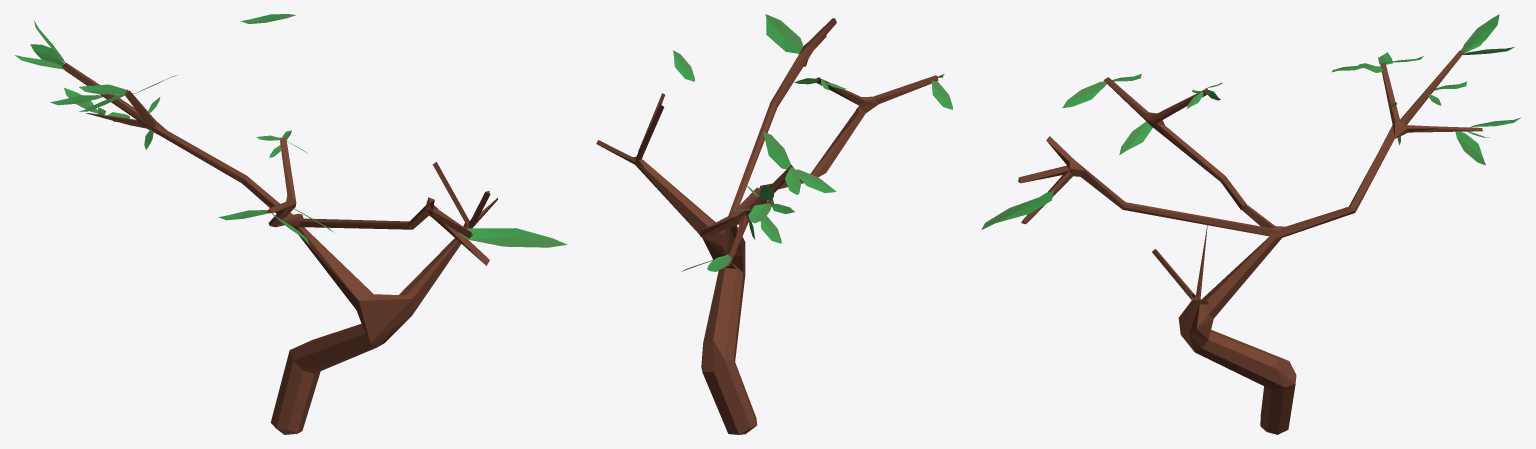
Rendered from Arbusto.fbx.
The picture shows the model from 3 angles, left to right: view 1: azimuth 30°, elevation 25°; view 2: azimuth 150°, elevation 25°; view 3: azimuth 270°, elevation 25°; orthographic projection. The views are drawn at different scales.
Visible parts, largest first — view 1: Cube, Plane; view 2: Cube, Plane; view 3: Cube, Plane.
Part boxes in pixels (box(x1,y1,x2,y2)): Cube: box(62, 63, 497, 434); Plane: box(15, 14, 567, 247); Cube: box(596, 18, 938, 434); Plane: box(673, 14, 952, 271); Cube: box(1018, 50, 1482, 434); Plane: box(981, 14, 1520, 229).
Bounding box in the file's own units: 200 × 218 × 285.
